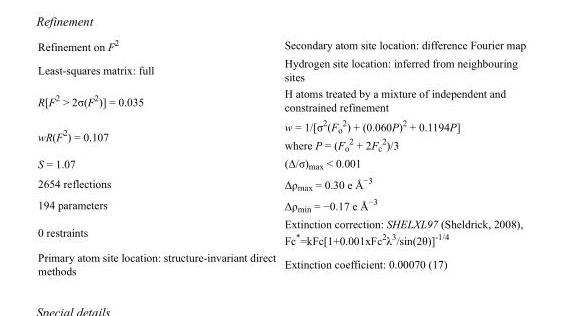table: (37, 37, 525, 276)
table column: (279, 37, 525, 276), (37, 37, 279, 276)
table row: (37, 115, 525, 154), (37, 215, 525, 248), (37, 84, 525, 115), (37, 54, 525, 84), (37, 248, 525, 276), (37, 172, 525, 194), (37, 194, 525, 215), (37, 154, 525, 172), (37, 37, 525, 54)
